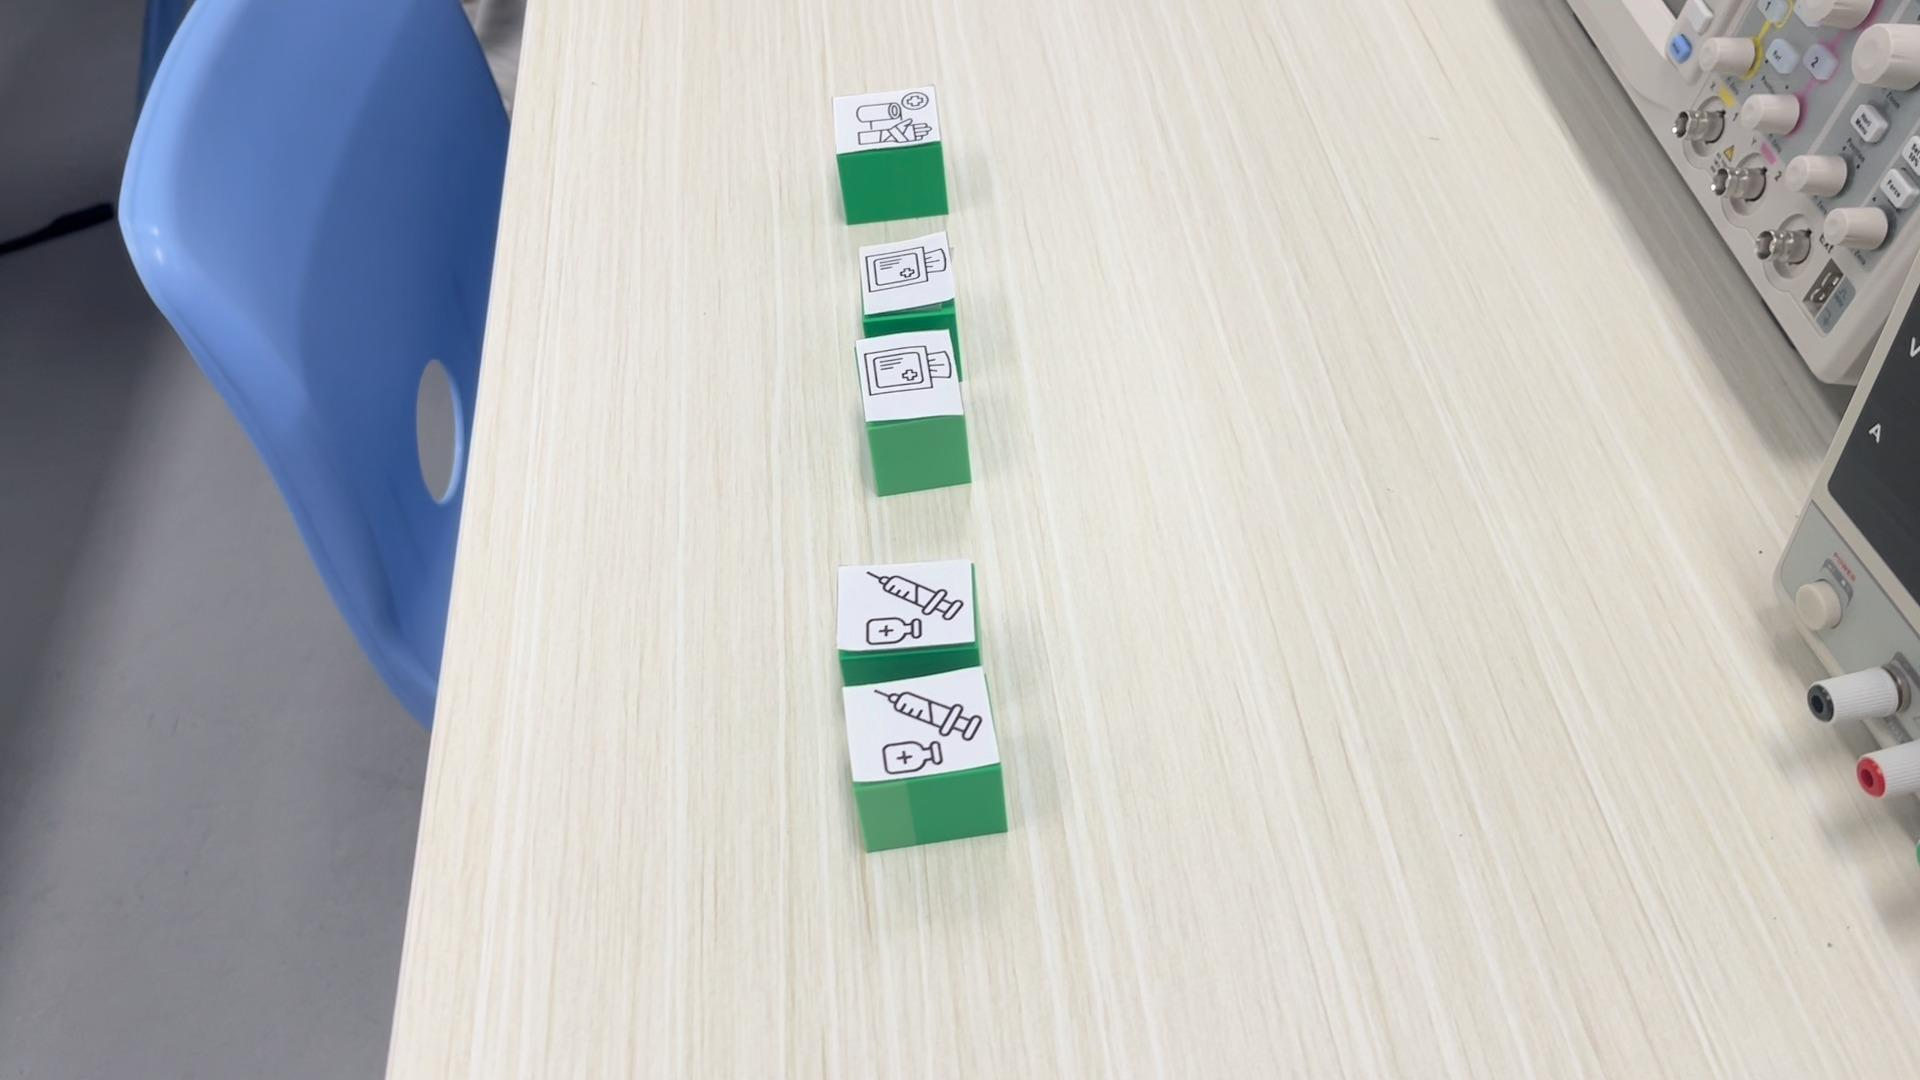Bandages: (835, 86, 945, 224)
Gauze: (853, 328, 971, 496), (858, 225, 960, 345)
antiseptic cream: (840, 662, 1006, 853), (839, 558, 980, 686)
